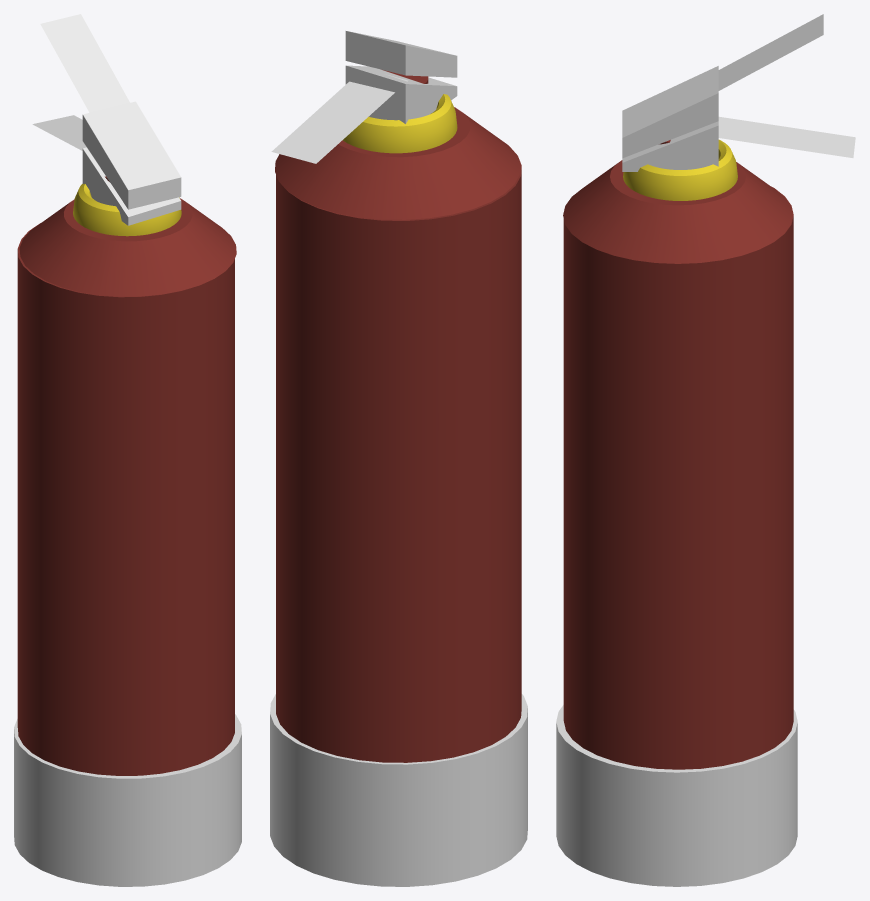
The model's file is newfire.glb.
3 renders of one model, left to right at view 1: azimuth 30°, elevation 25°; view 2: azimuth 150°, elevation 25°; view 3: azimuth 270°, elevation 25°, orthographic. The views are drawn at different scales.
Visible parts, largest first — view 1: Cone, Cylinder, Cube, Plane, Torus, Plane.001; view 2: Cone, Cylinder, Cube, Plane.001, Torus; view 3: Cone, Cylinder, Cube, Torus, Plane.001, Plane.
Part boxes in pixels (x1,y1,x2,y2): Cone: [17, 176, 236, 775]; Cylinder: [14, 714, 241, 886]; Cube: [82, 101, 181, 225]; Plane: [40, 14, 129, 112]; Torus: [73, 184, 181, 236]; Plane.001: [32, 115, 86, 150]; Cone: [275, 70, 521, 762]; Cylinder: [270, 694, 527, 886]; Cube: [345, 31, 457, 123]; Plane.001: [271, 74, 408, 163]; Torus: [343, 94, 457, 153]; Cone: [563, 140, 793, 769]; Cylinder: [556, 705, 797, 886]; Cube: [622, 66, 718, 171]; Torus: [623, 139, 737, 200]; Plane.001: [718, 116, 855, 157]; Plane: [718, 14, 823, 90].
Bounding box in the file's own units: 2.1 × 7.8 × 2.6.
